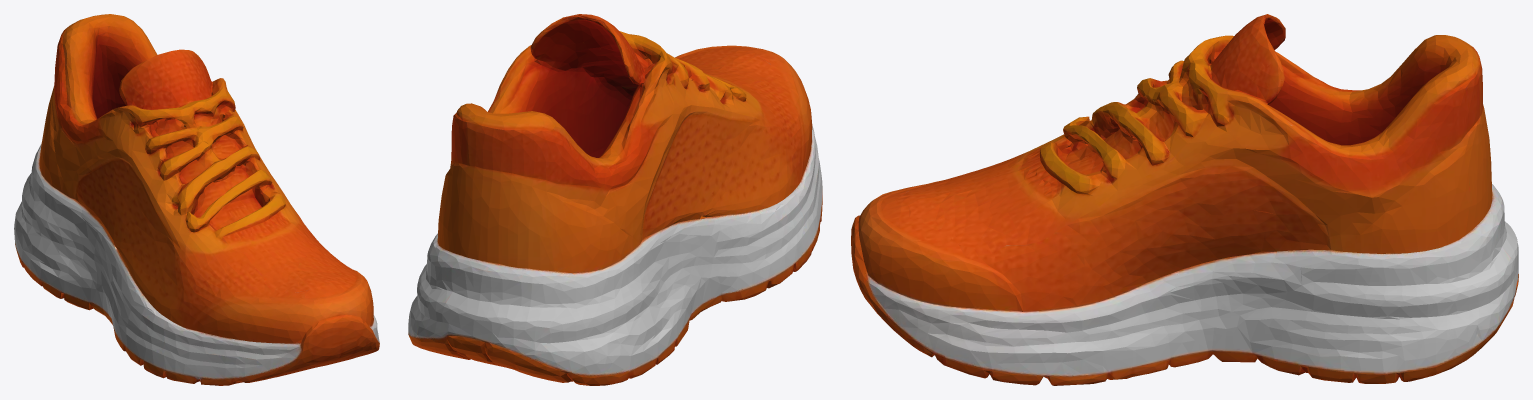
Rendered from runner-orange.glb.
3 renders of one model, left to right at view 1: azimuth 30°, elevation 25°; view 2: azimuth 150°, elevation 25°; view 3: azimuth 270°, elevation 25°, orthographic. The views are drawn at different scales.
Parts seen in each view (by area): view 1: geometry_0; view 2: geometry_0; view 3: geometry_0.
Boxes of the visible parts, left/top/right/bottom form: geometry_0: left=14, top=14, right=379, bottom=385; geometry_0: left=408, top=14, right=822, bottom=385; geometry_0: left=851, top=14, right=1518, bottom=385.
Size of the model in its own units: 0.4225 by 0.5188 by 0.9985.
1 material, 1 textured.
